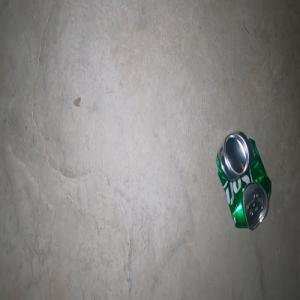SodaCan: (215, 131, 271, 230)
